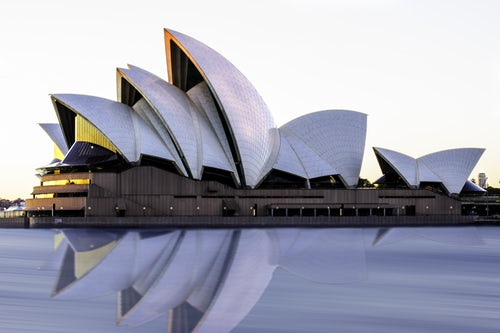opera house: (5, 7, 497, 210)
